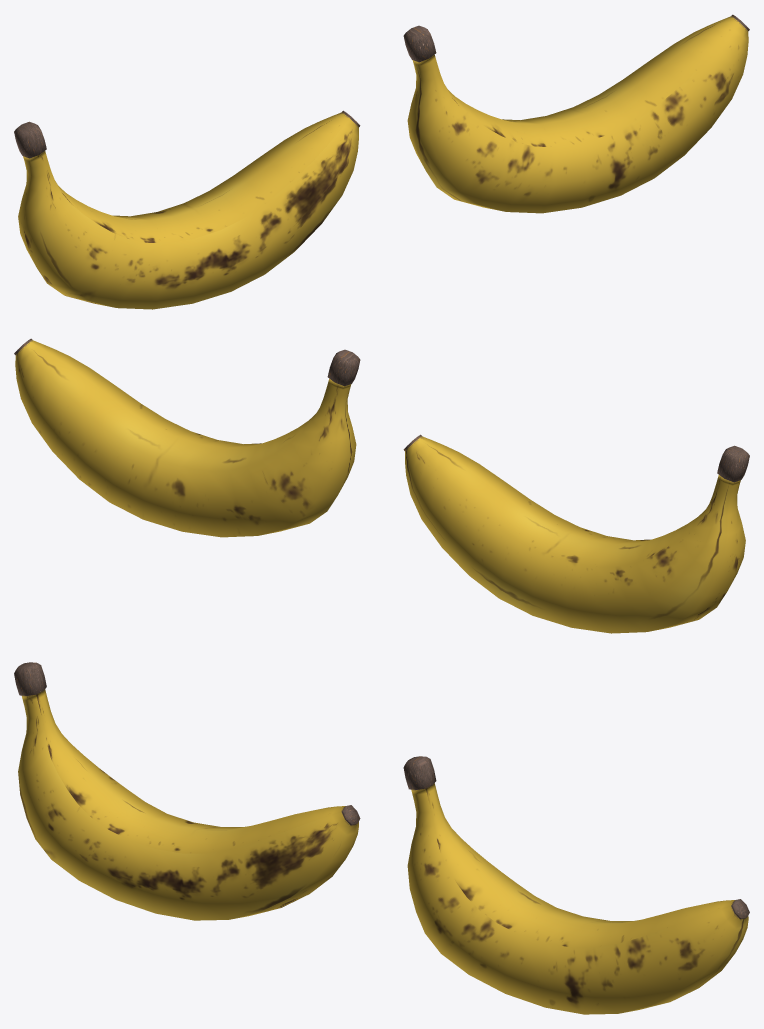
Rendered from Banana.fbx.
3 views of the same model, one above another, from view 1: azimuth 30°, elevation 25°; view 2: azimuth 150°, elevation 25°; view 3: azimuth 330°, elevation 25° (orthographic).
Parts seen in each view (by area): view 1: Banana, Banana2; view 2: Banana, Banana2; view 3: Banana, Banana2.
Part boxes in pixels (x1=…): Banana: x1=14, y1=110, x2=360, y2=309; Banana2: x1=403, y1=14, x2=749, y2=213; Banana: x1=403, y1=434, x2=749, y2=633; Banana2: x1=14, y1=338, x2=360, y2=537; Banana: x1=14, y1=662, x2=360, y2=920; Banana2: x1=403, y1=756, x2=749, y2=1014.
Bounding box in the file's own units: 37.44 × 10.34 × 4.27.
